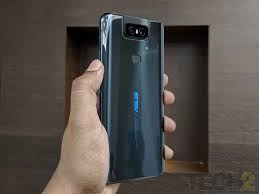asus: (96, 11, 166, 185)
